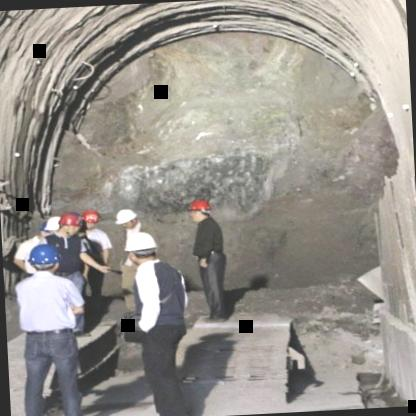helmet: (126, 230, 162, 266), (24, 241, 61, 276), (186, 195, 214, 223), (114, 206, 143, 230), (80, 206, 106, 231), (59, 210, 81, 238)
